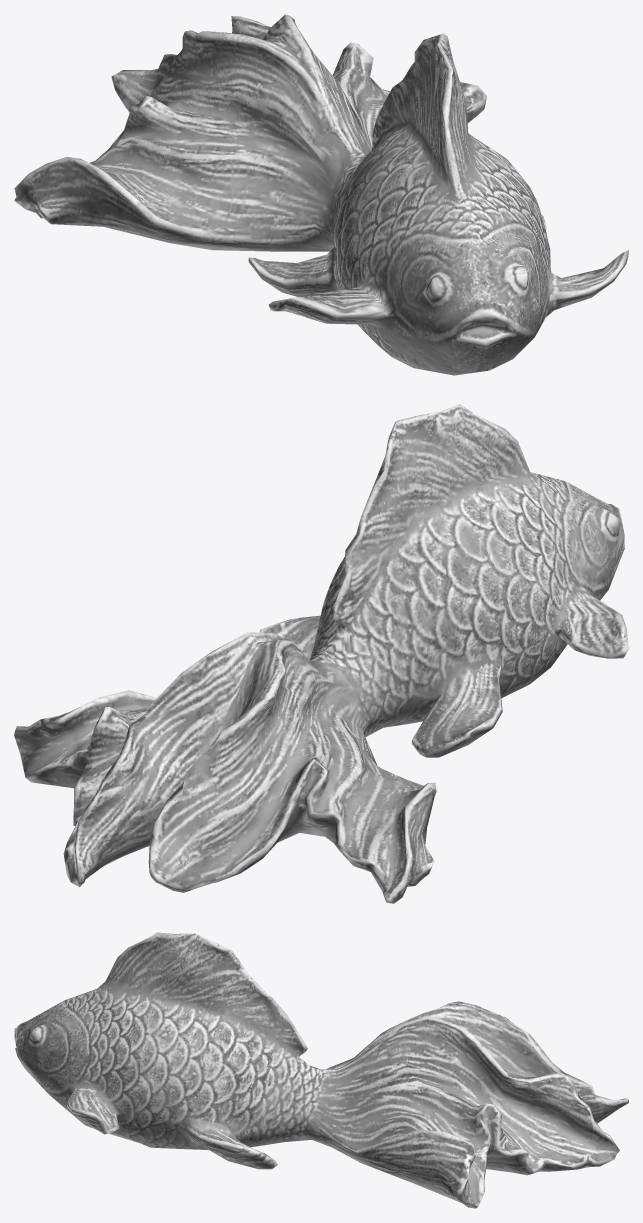
Rendered from ca-chep.glb.
3 renders of one model, top to bottom at view 1: azimuth 30°, elevation 25°; view 2: azimuth 150°, elevation 25°; view 3: azimuth 270°, elevation 25°, orthographic. The views are drawn at different scales.
Visible parts, largest first — view 1: Fish-4K-BakeMaterialTest; view 2: Fish-4K-BakeMaterialTest; view 3: Fish-4K-BakeMaterialTest.
Boxes of the visible parts, x1=… form: Fish-4K-BakeMaterialTest: x1=14, y1=14, x2=628, y2=375; Fish-4K-BakeMaterialTest: x1=14, y1=404, x2=628, y2=903; Fish-4K-BakeMaterialTest: x1=14, y1=932, x2=628, y2=1208.
Bounding box in the file's own units: 0.5965 × 0.3698 × 1.
1 material, 1 textured.
